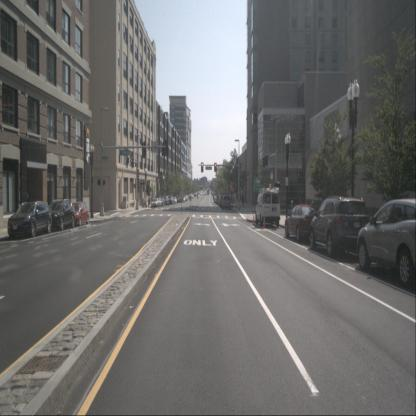human-pedestrian-adult: (242, 194, 244, 206)
movable_object-trafficcone: (262, 214, 266, 228), (252, 213, 256, 225)
vehicle-car: (357, 199, 415, 288), (309, 196, 369, 257), (7, 199, 52, 237), (285, 204, 318, 243), (256, 190, 280, 228), (46, 200, 75, 231), (70, 201, 90, 226), (152, 198, 159, 208), (158, 198, 164, 208), (163, 196, 169, 206), (156, 198, 162, 207), (219, 198, 225, 207), (168, 197, 173, 205), (172, 197, 177, 204)
vehicle-truck: (222, 195, 231, 210)
